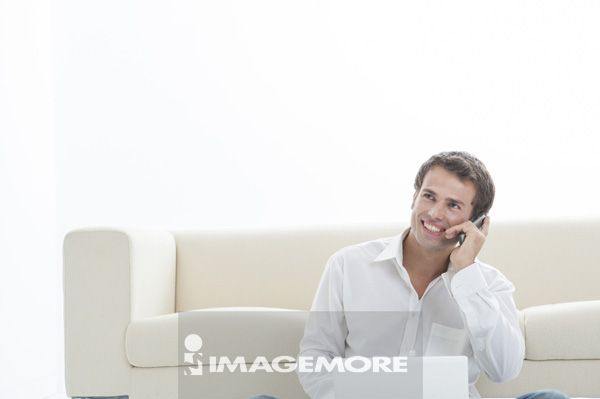talk: (412, 183, 492, 269)
